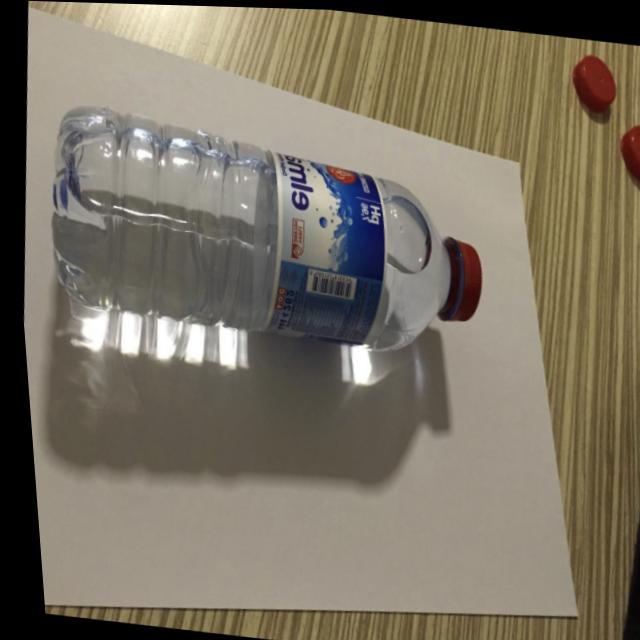anorganik: (45, 100, 505, 364)
